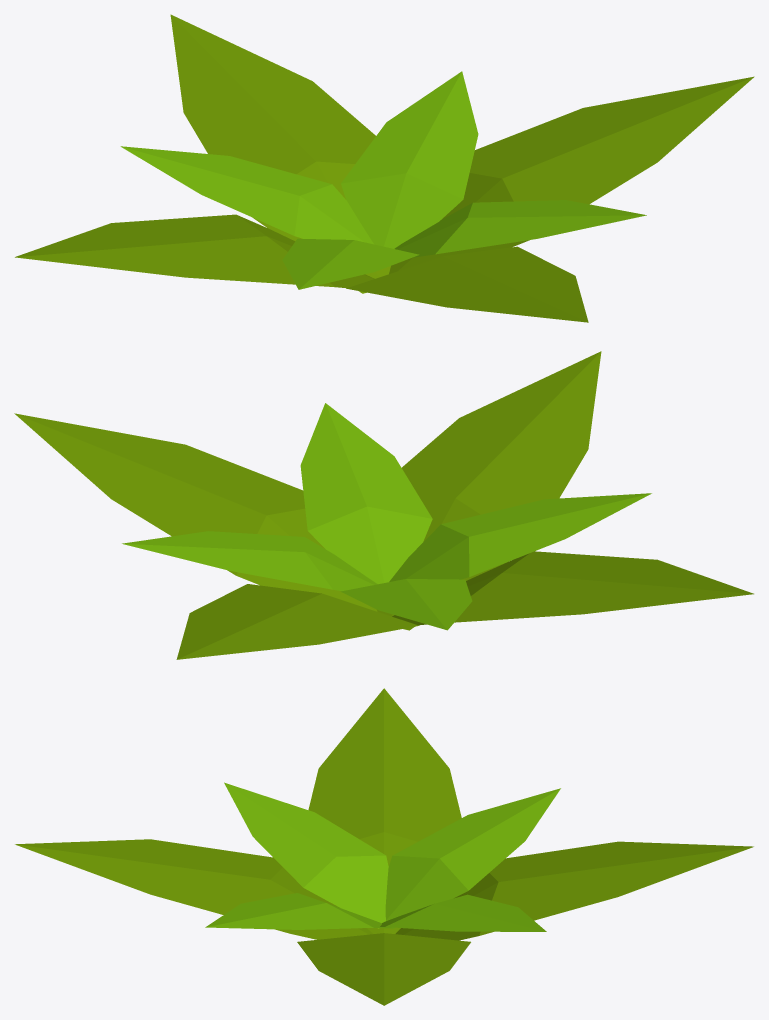
The model's file is Plant.fbx.
The picture shows the model from 3 angles, top to bottom: view 1: azimuth 30°, elevation 25°; view 2: azimuth 150°, elevation 25°; view 3: azimuth 270°, elevation 25°; orthographic projection. The views are drawn at different scales.
Parts seen in each view (by area): view 1: Plant; view 2: Plant; view 3: Plant.
Part boxes in pixels (x1,y1,x2,y2): Plant: (15, 14, 754, 322); Plant: (14, 351, 753, 659); Plant: (15, 688, 753, 1005).
Bounding box in the file's own units: 1735 × 264 × 1709.
